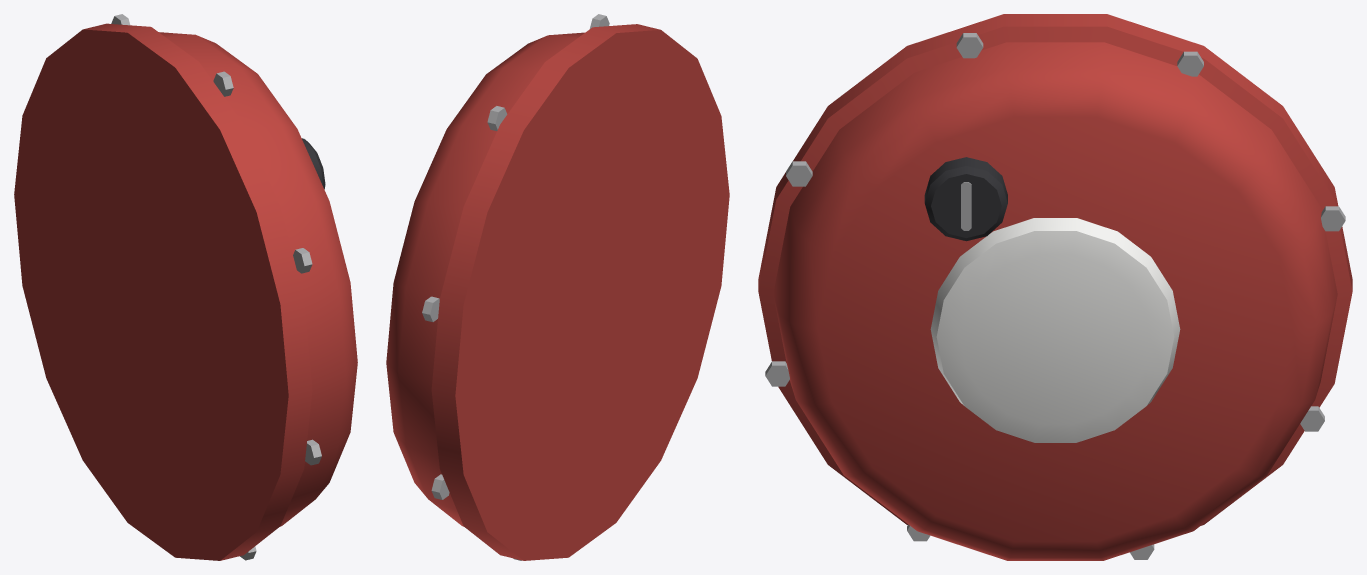
File: clutch.glb
The picture shows the model from 3 angles, left to right: view 1: azimuth 30°, elevation 25°; view 2: azimuth 150°, elevation 25°; view 3: azimuth 270°, elevation 25°; orthographic projection. The views are drawn at different scales.
Visible parts, largest first — view 1: lod0; view 2: lod0; view 3: lod0.
Part boxes in pixels (box(x1,y1,x2,y2)): lod0: box(14, 14, 357, 560); lod0: box(386, 14, 729, 560); lod0: box(758, 14, 1352, 560).
Size of what is drawn, in the model's own units: 0.0495 by 0.197 by 0.2.
